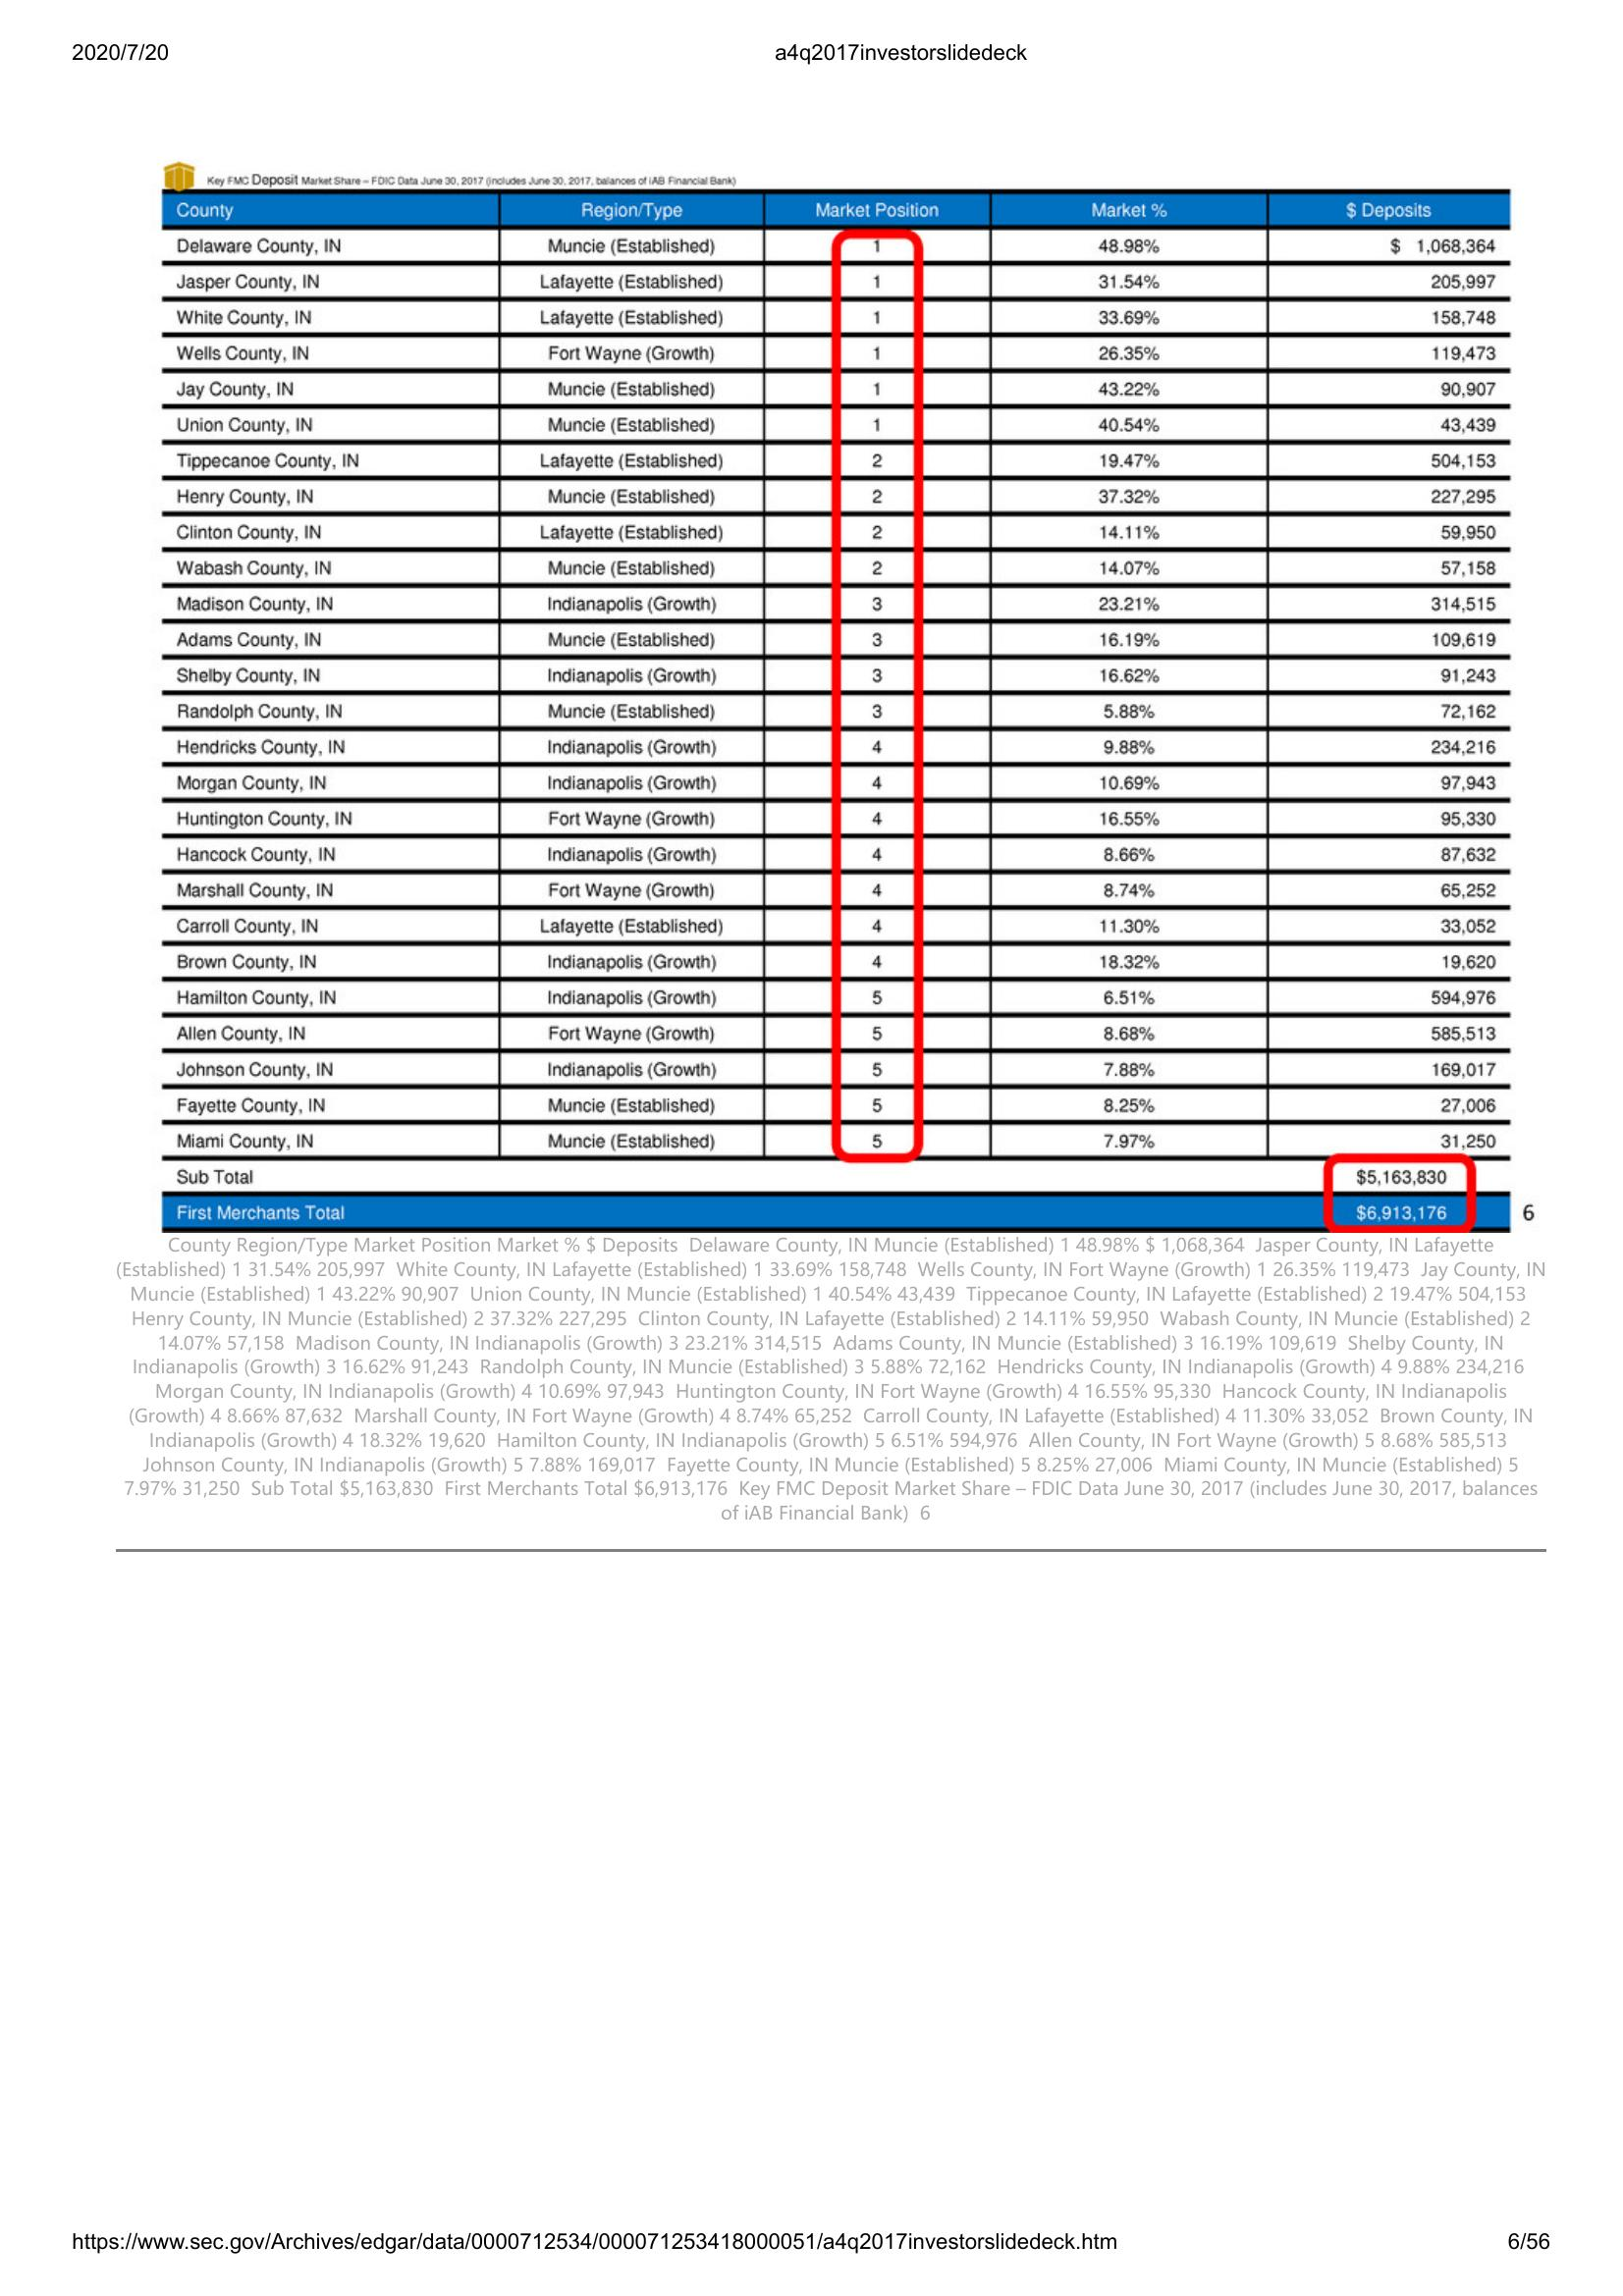table: (156, 183, 1519, 1246)
